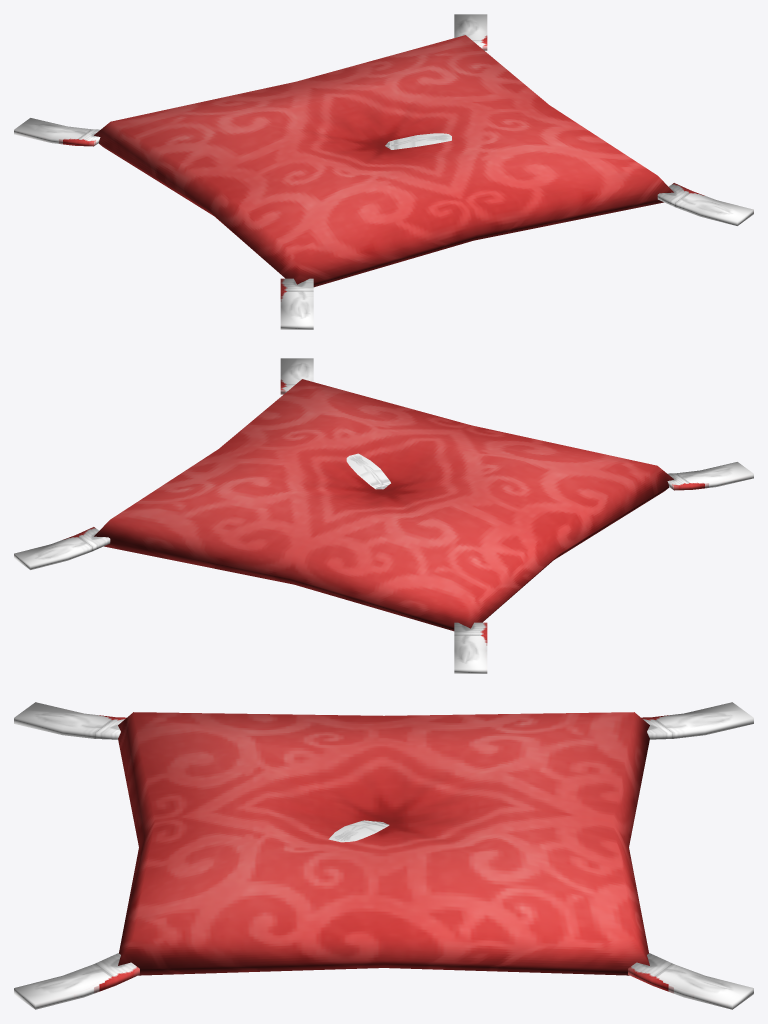
Rendered from JapaneseRedCushon_HD.fbx.
3 views of the same model, one above another, from view 1: azimuth 30°, elevation 25°; view 2: azimuth 150°, elevation 25°; view 3: azimuth 270°, elevation 25° (orthographic). The views are drawn at different scales.
Visible parts, largest first — view 1: JapaneseRedCushon; view 2: JapaneseRedCushon; view 3: JapaneseRedCushon.
Boxes of the visible parts, bbox=[...] form: JapaneseRedCushon: bbox=[14, 14, 753, 329]; JapaneseRedCushon: bbox=[14, 358, 753, 673]; JapaneseRedCushon: bbox=[14, 702, 753, 1009].
Size of the model in its own units: 0.8638 by 0.0793 by 0.8955.
